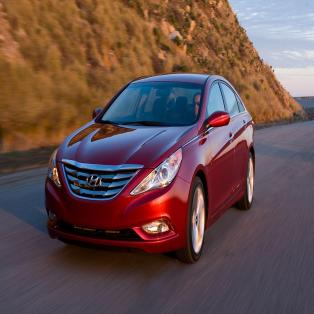Auto: (35, 66, 266, 276)
